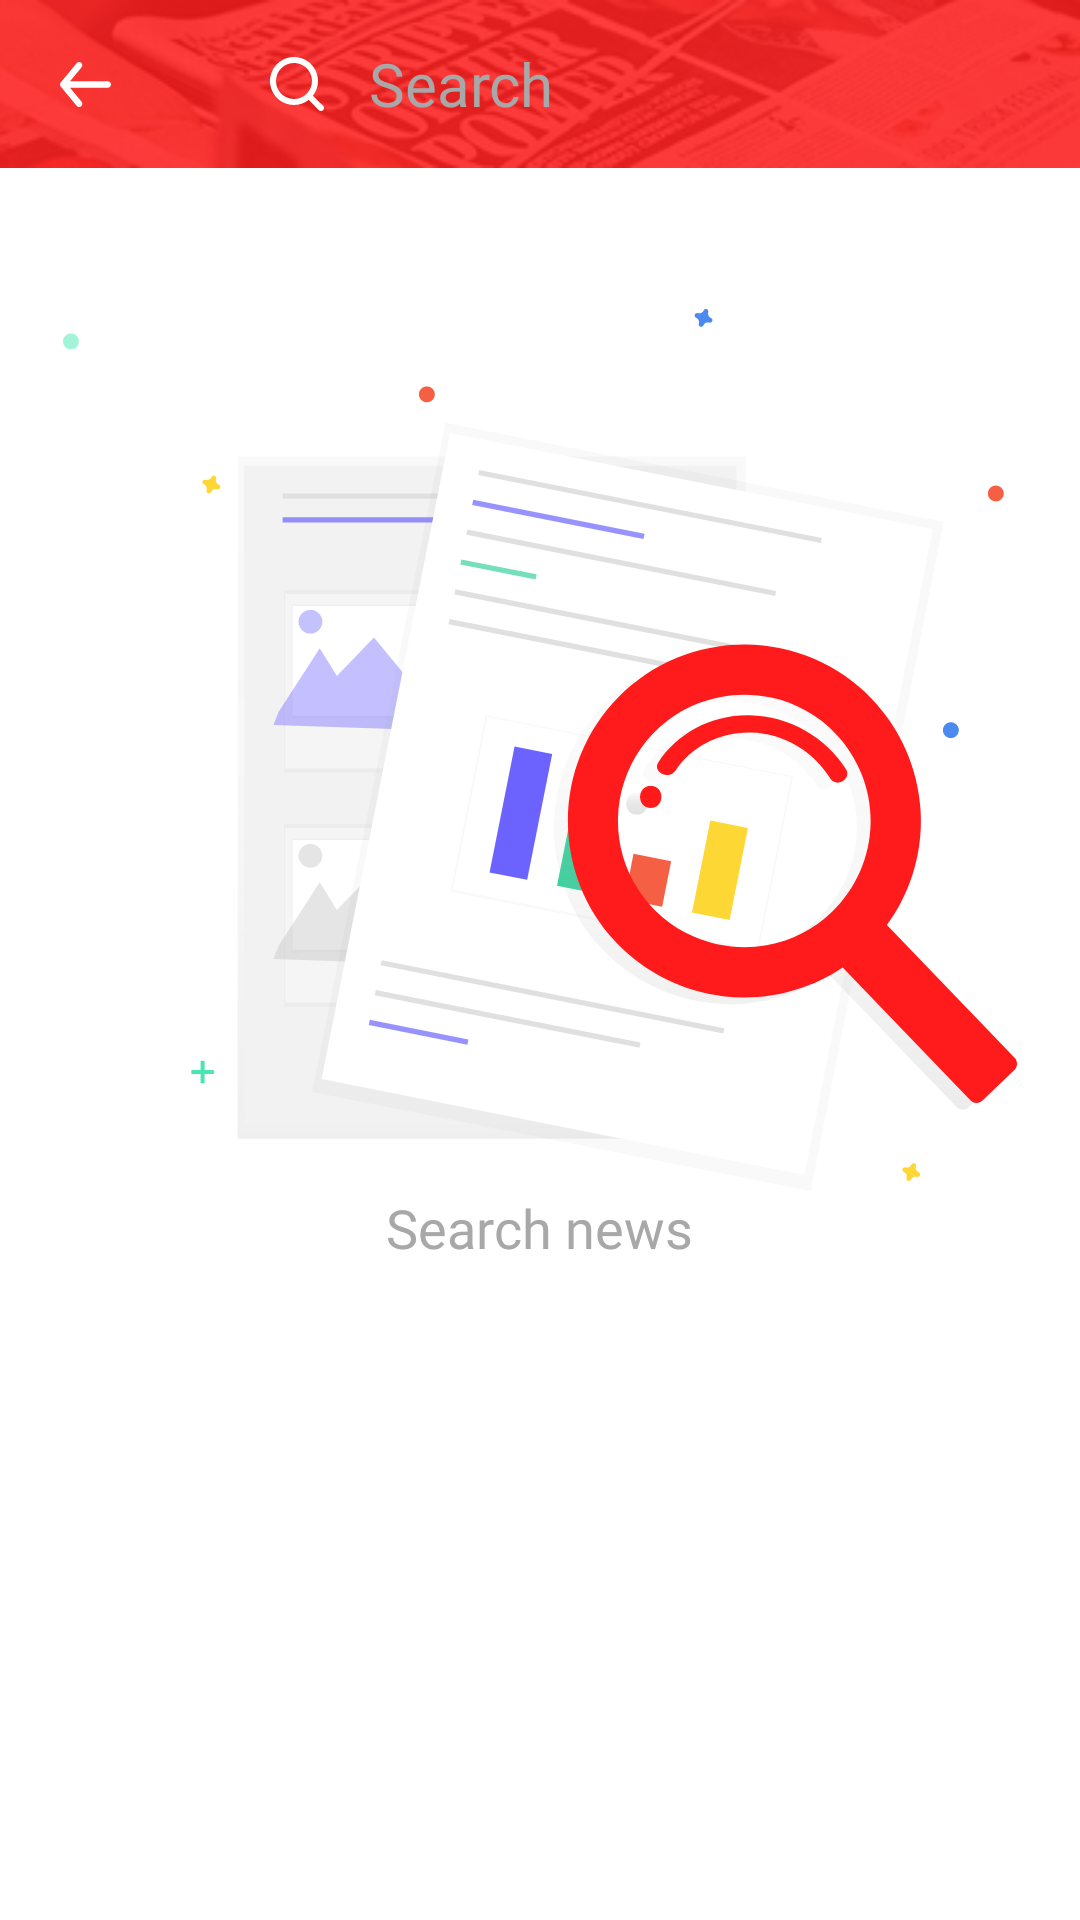

Icon click points for this 1080*1920 phone screenshot, format (x=x, y=y):
back: (x=103, y=69)
